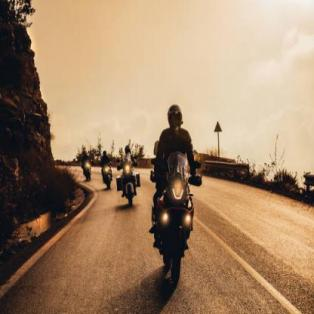Motocicleta: (149, 149, 207, 290), (118, 159, 146, 212)
